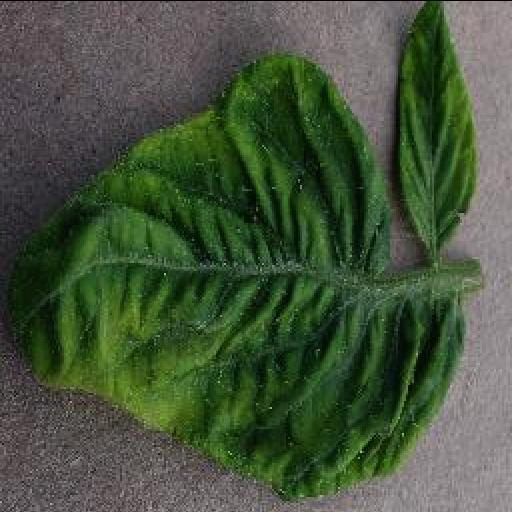disease_tomato: (7, 57, 465, 499), (395, 2, 481, 252)
